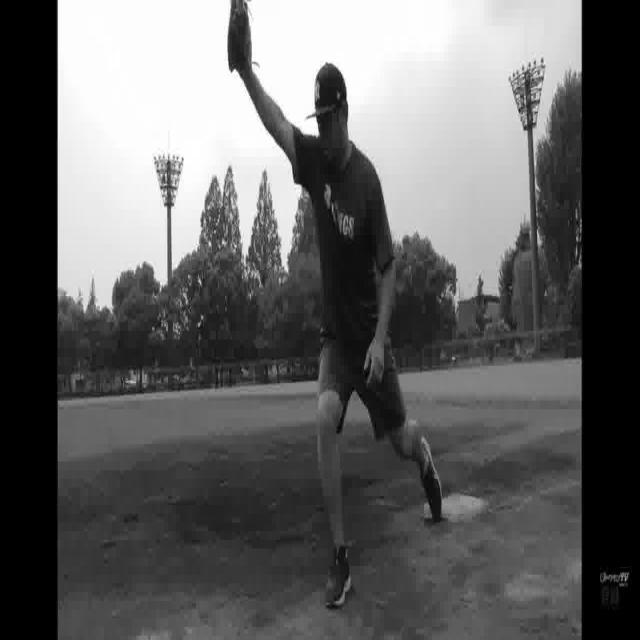base: (423, 492, 490, 529)
baseball_glove: (228, 0, 261, 91)
shoe: (414, 436, 442, 522), (324, 543, 351, 611)
